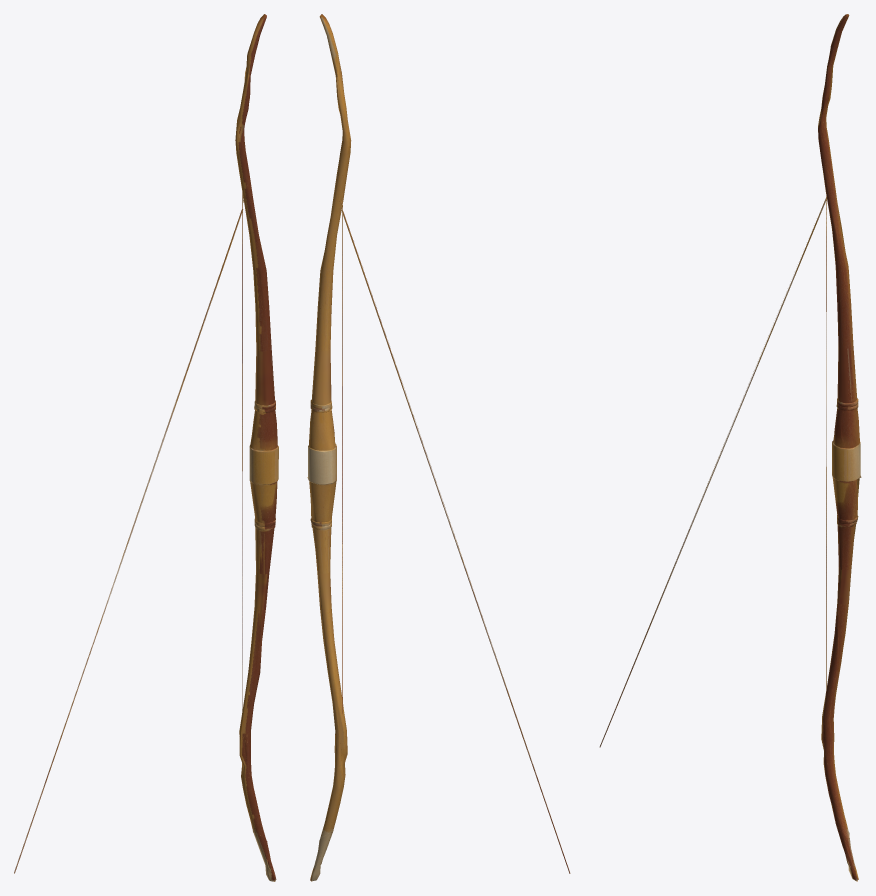
Rendered from yew-longbow_refine.glb.
3 views of the same model, side by side, from view 1: azimuth 30°, elevation 25°; view 2: azimuth 150°, elevation 25°; view 3: azimuth 330°, elevation 25° (orthographic).
Size of the model in its own units: 0.2998 by 0.9507 by 0.0278.
Materials: 1 (1 with a texture image).
